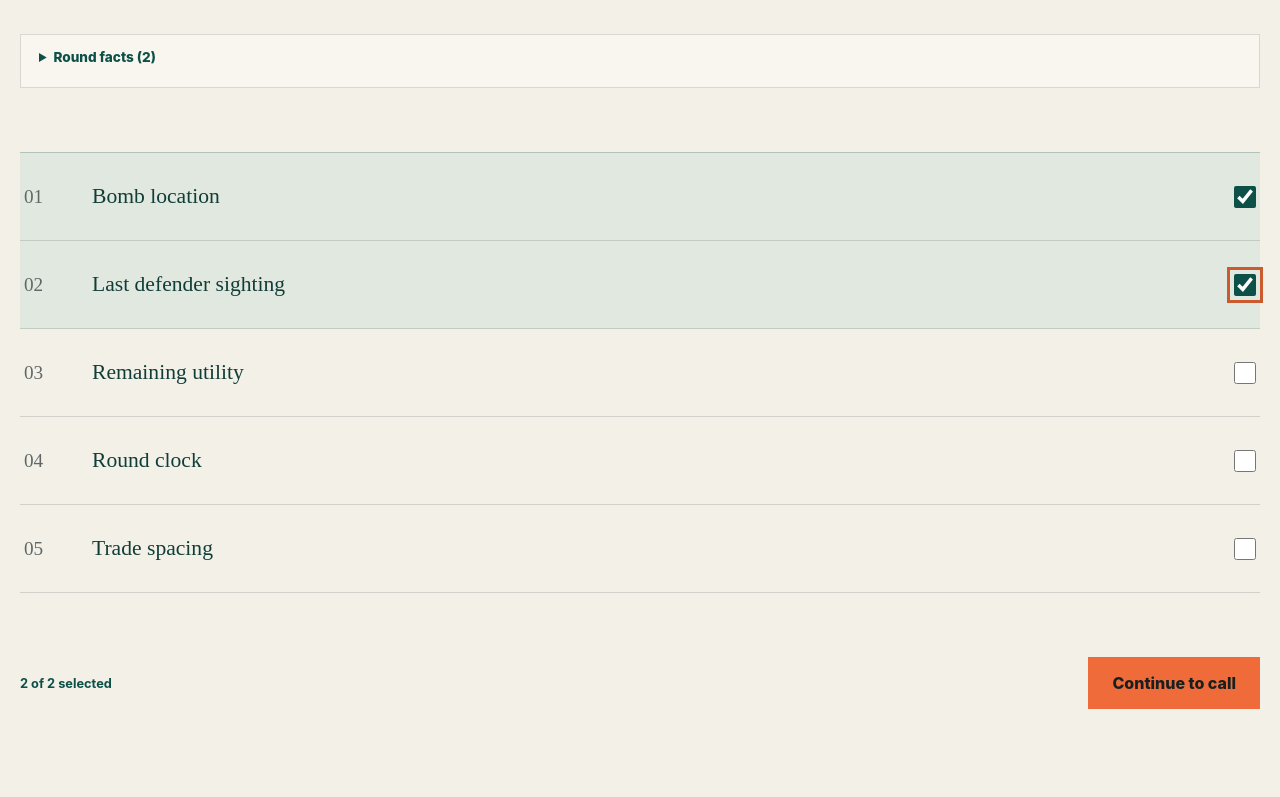
Scenario: App › starts an official attempt and opens only its protected briefing
Earlier steps of the test are not shown.
Later steps or results of the test are not shown.
(page scrolled)
Expected: the text "2 of 2 selected" is shown, [20,676,112,691]
Click the button "Continue to call" at (1174, 683), box [1088,657,1260,709]
(page scrolled)
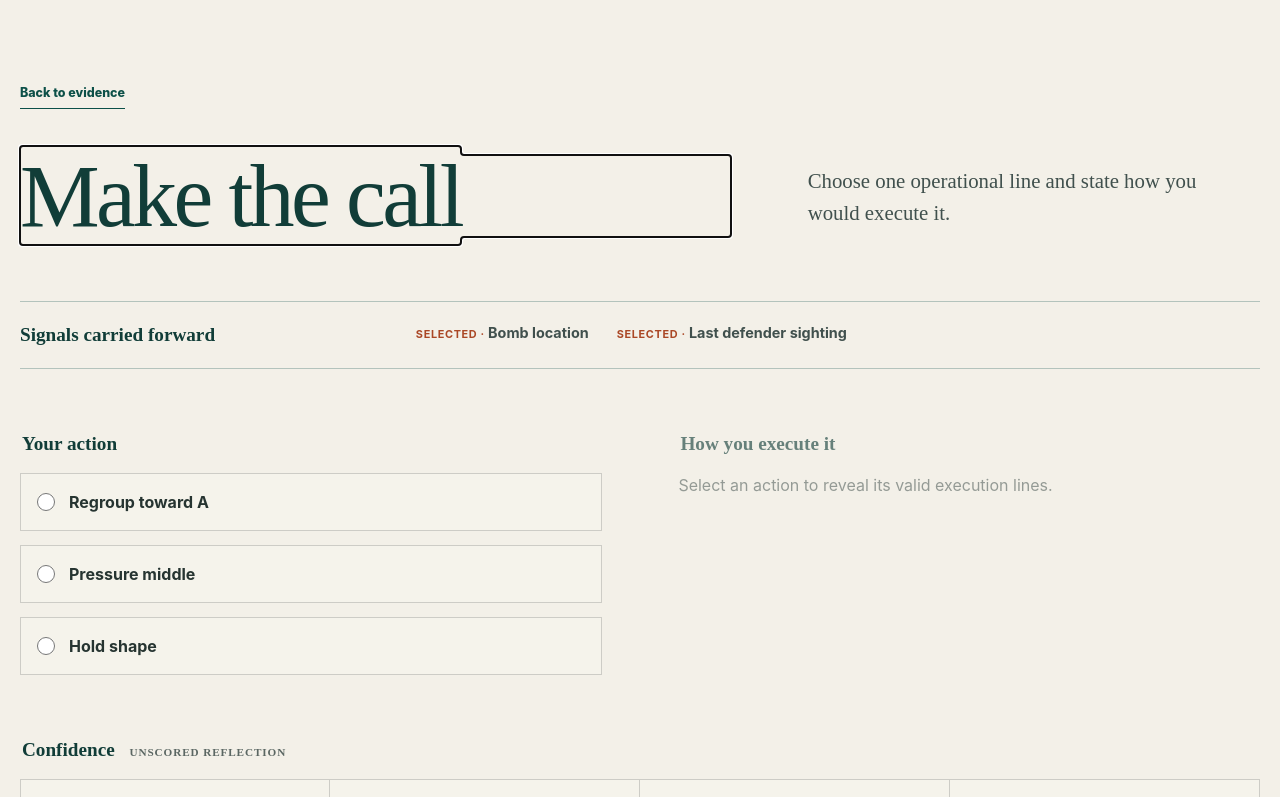
Result: the heading "Make the call" is shown at [20,146,461,245]
Click the radio button labelled "Regroup toward A" at (46, 502), box [37,493,55,511]
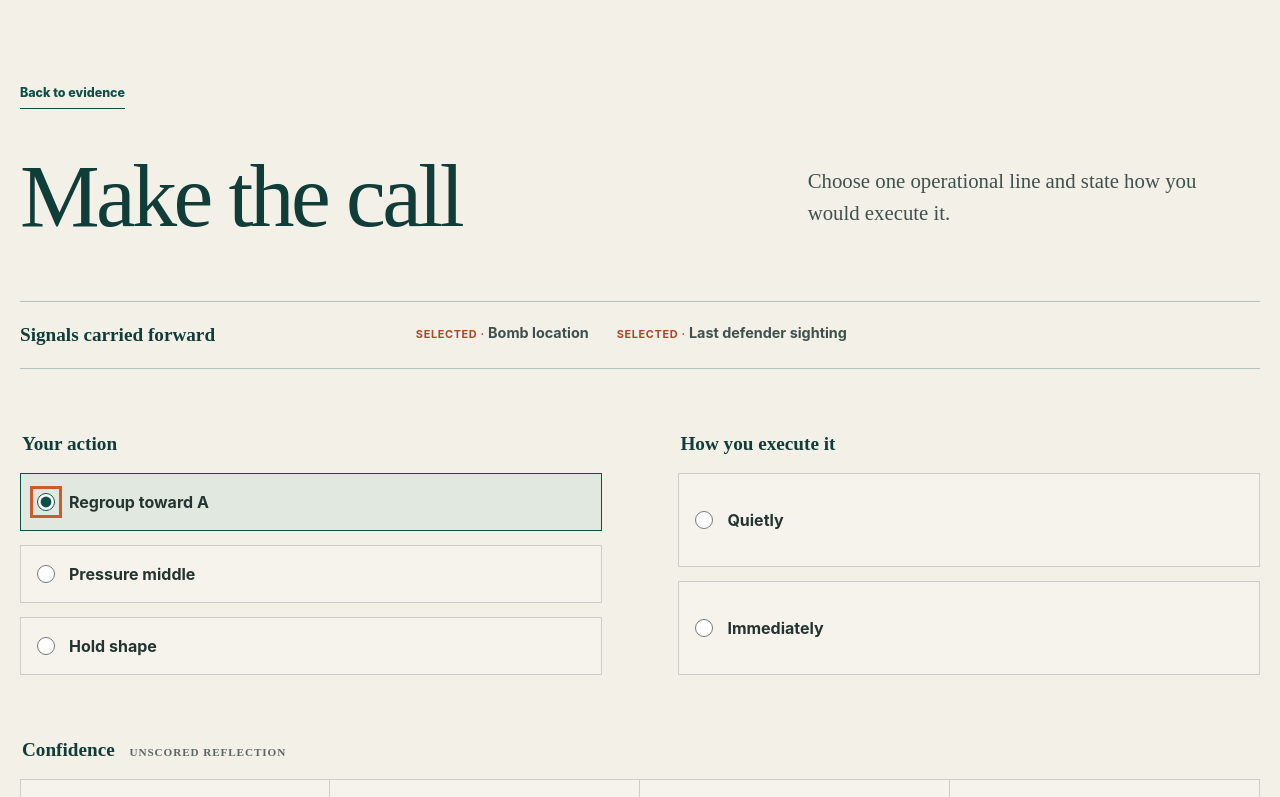
Click the radio button labelled "Quietly" at (704, 520), box [695,511,713,529]
(page scrolled)
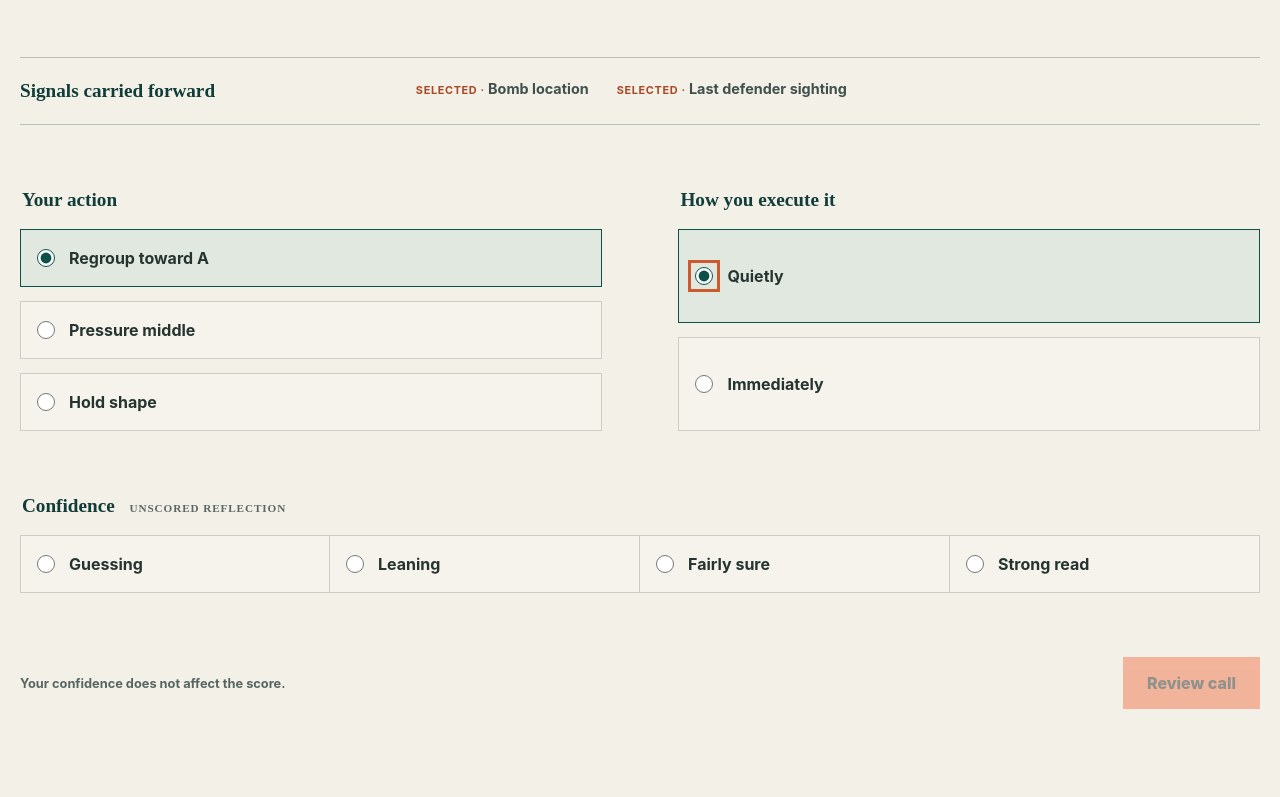
Click the radio button labelled "Fairly sure" at (665, 564), box [656,555,674,573]
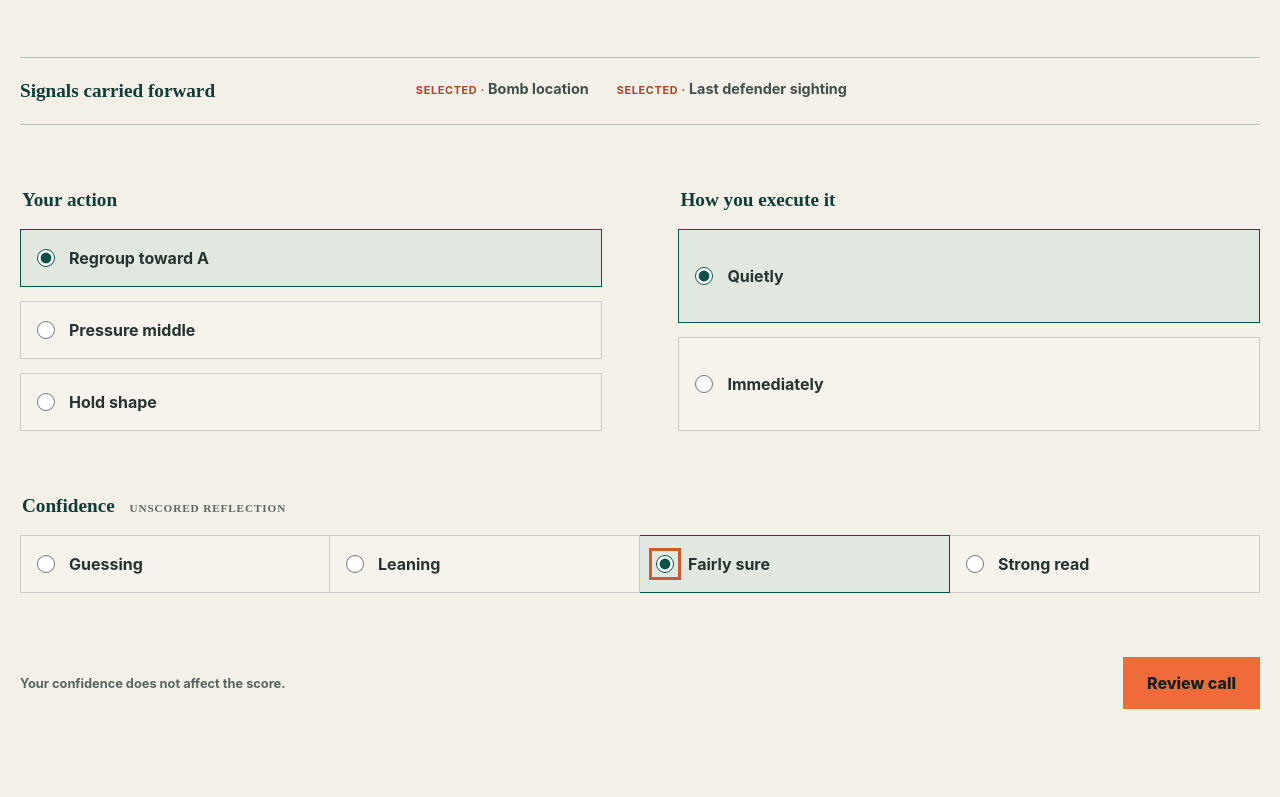
Click the button "Review call" at (1192, 683), box [1123,657,1260,709]
(page scrolled)
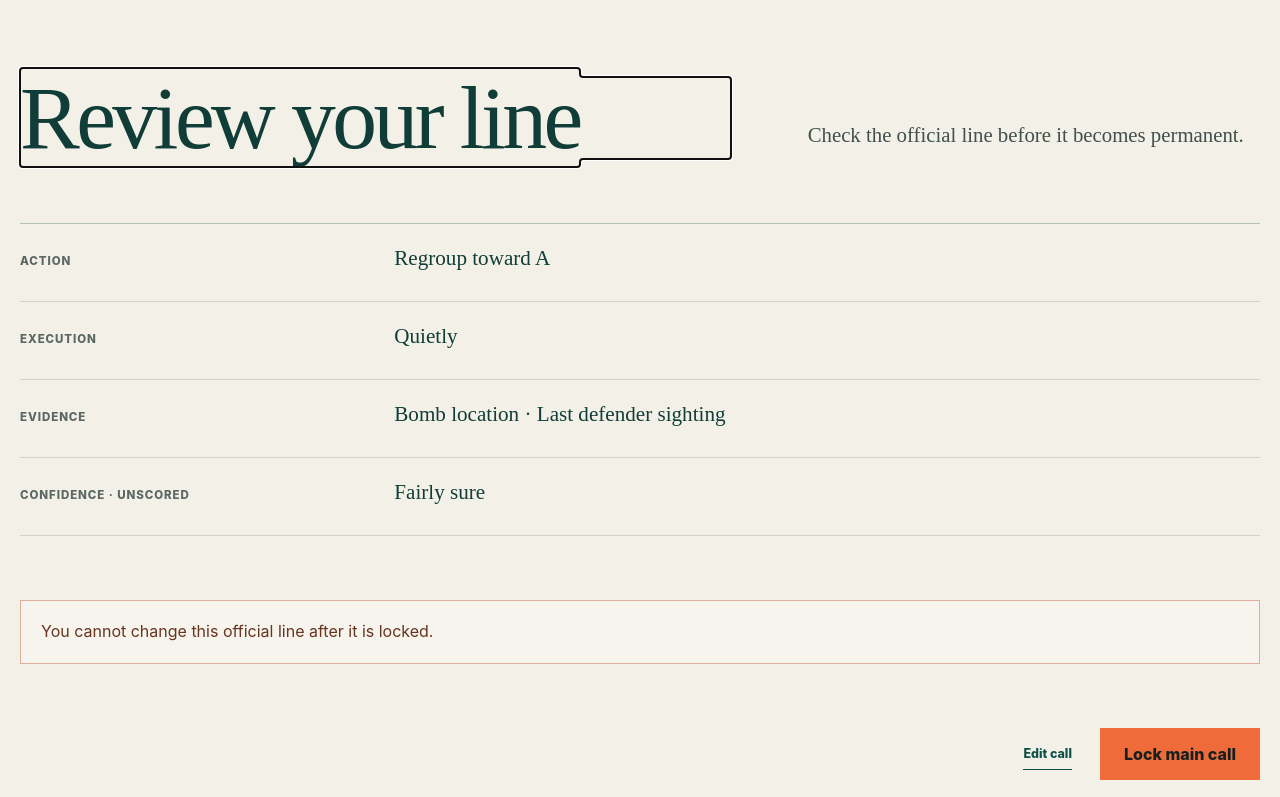
Result: the heading "Review your line" is shown at [20,68,580,167]
Result: the text "You cannot change this official line after it is locked." is shown at [20,600,1260,664]
Click the button "Lock main call" at (1180, 754), box [1100,728,1260,780]
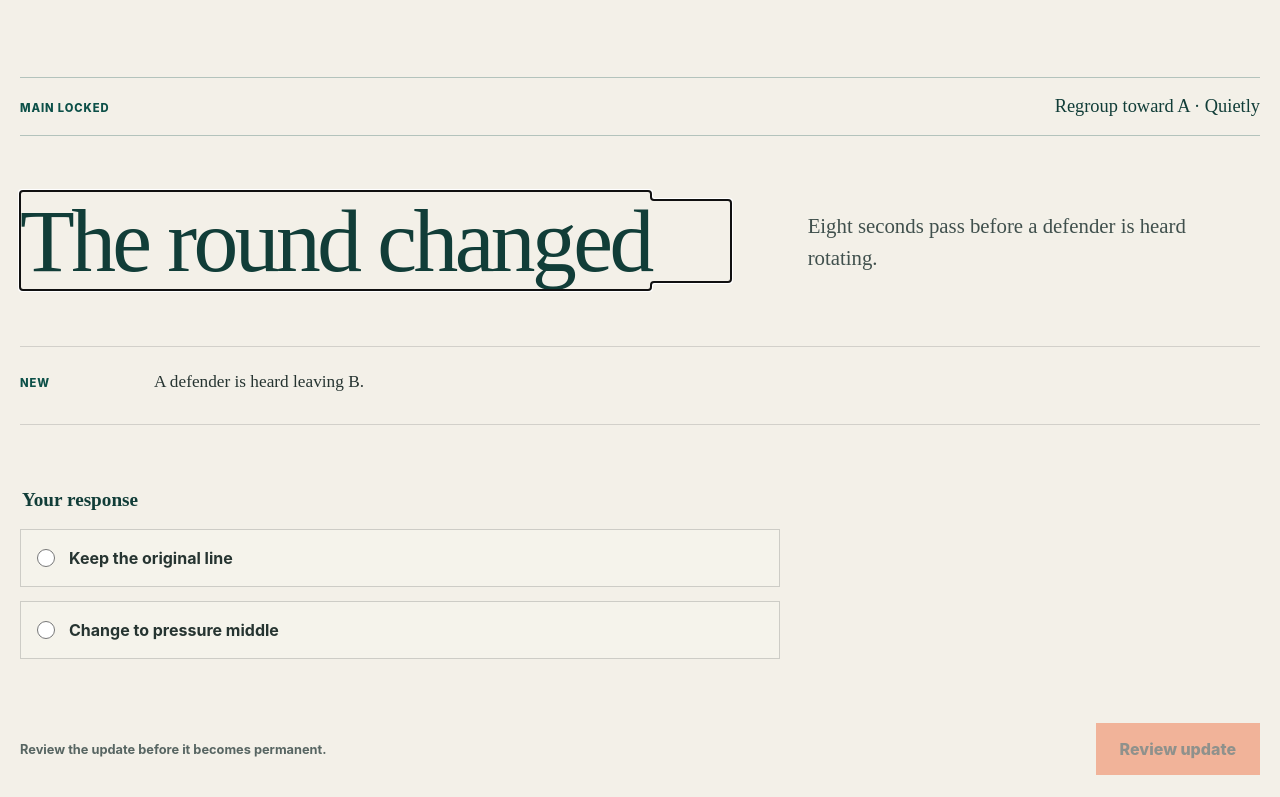
Result: the text "Main locked" is shown at [20,101,109,115]
Result: the text "A defender is heard leaving B." is shown at [154,372,364,391]
